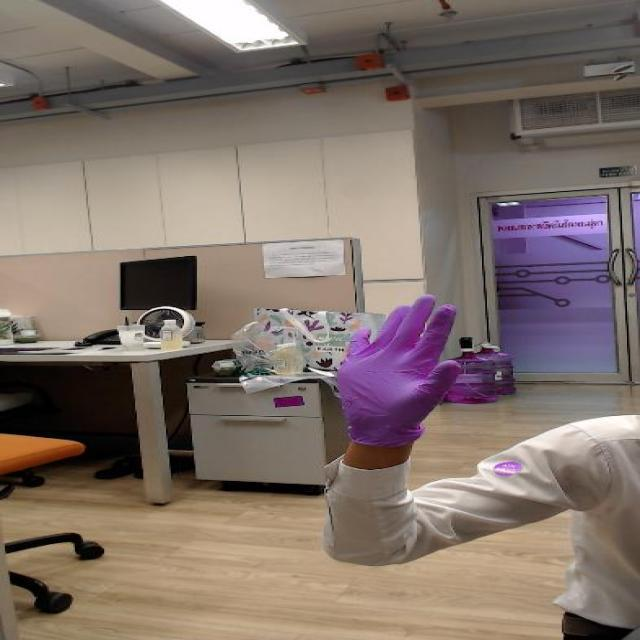gloved_hand: (319, 290, 490, 421)
